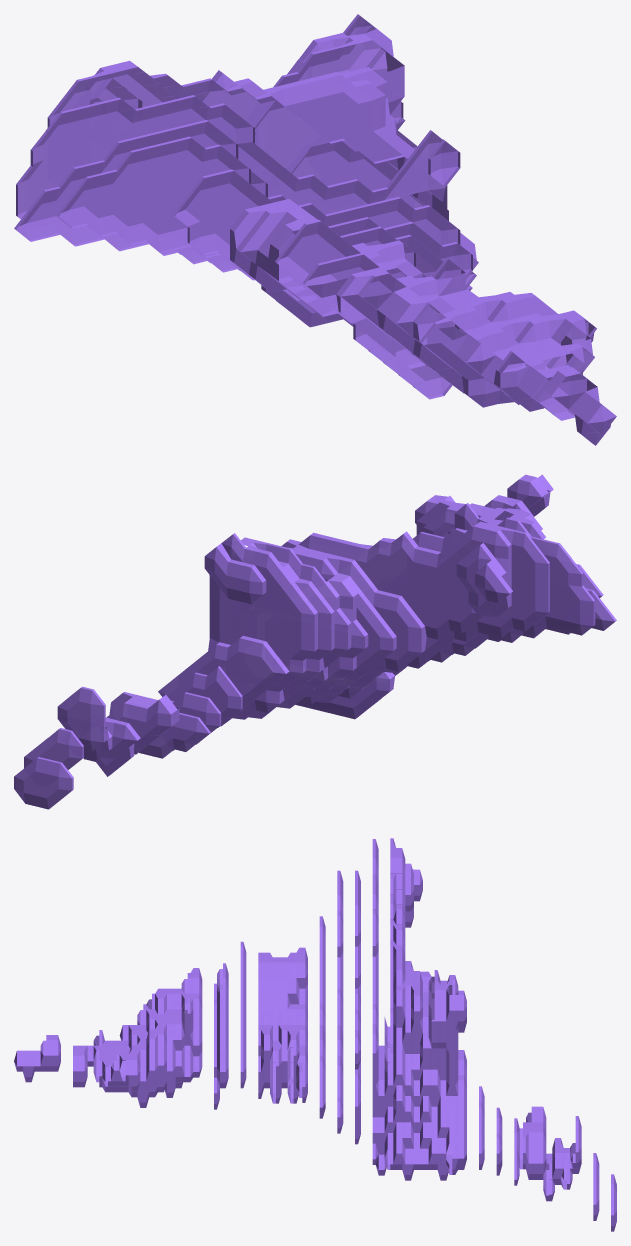
Rendered from SVV_BWM-DR03.gltf.
3 renders of one model, top to bottom at view 1: azimuth 30°, elevation 25°; view 2: azimuth 150°, elevation 25°; view 3: azimuth 270°, elevation 25°, orthographic. The views are drawn at different scales.
Visible parts, largest first — view 1: BWM-DR03; view 2: BWM-DR03; view 3: BWM-DR03.
Part boxes in pixels (<box>): BWM-DR03: <box>14,14,616,445</box>; BWM-DR03: <box>14,474,616,809</box>; BWM-DR03: <box>14,838,616,1231</box>.
Size of the model in its own units: 19969 by 11261 by 26254.
